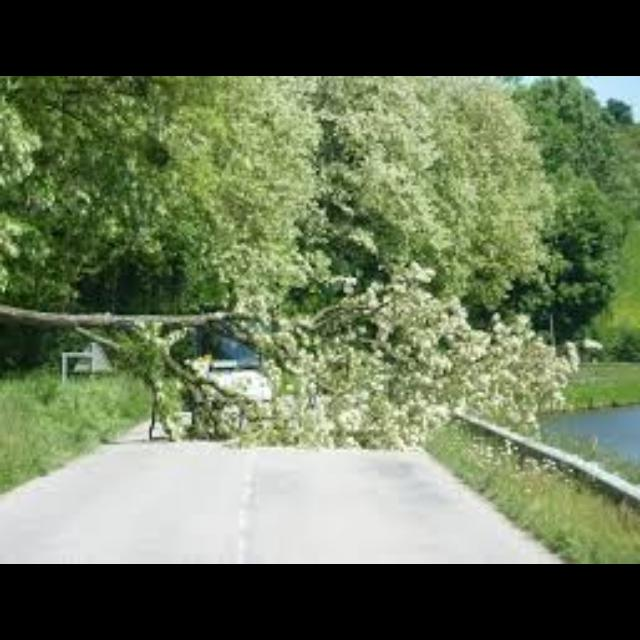Fallen Tree: (0, 277, 377, 376)
